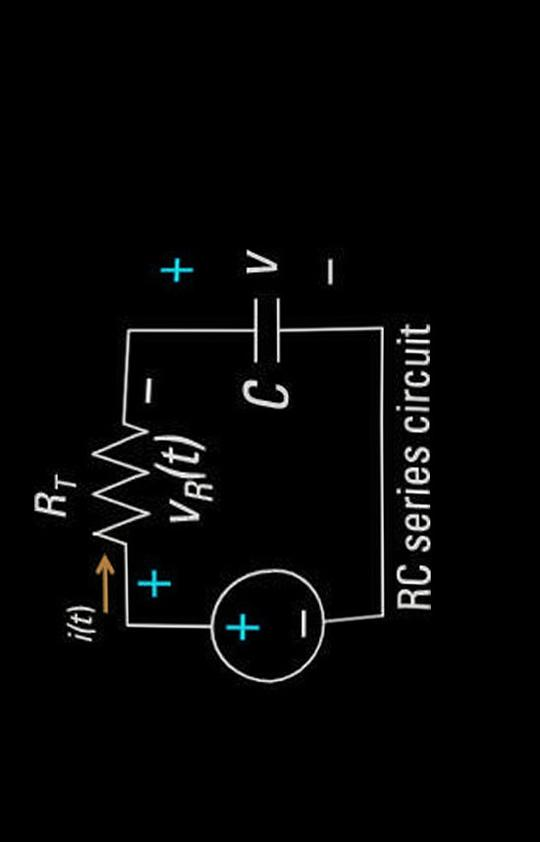Battery: (171, 540, 340, 722)
